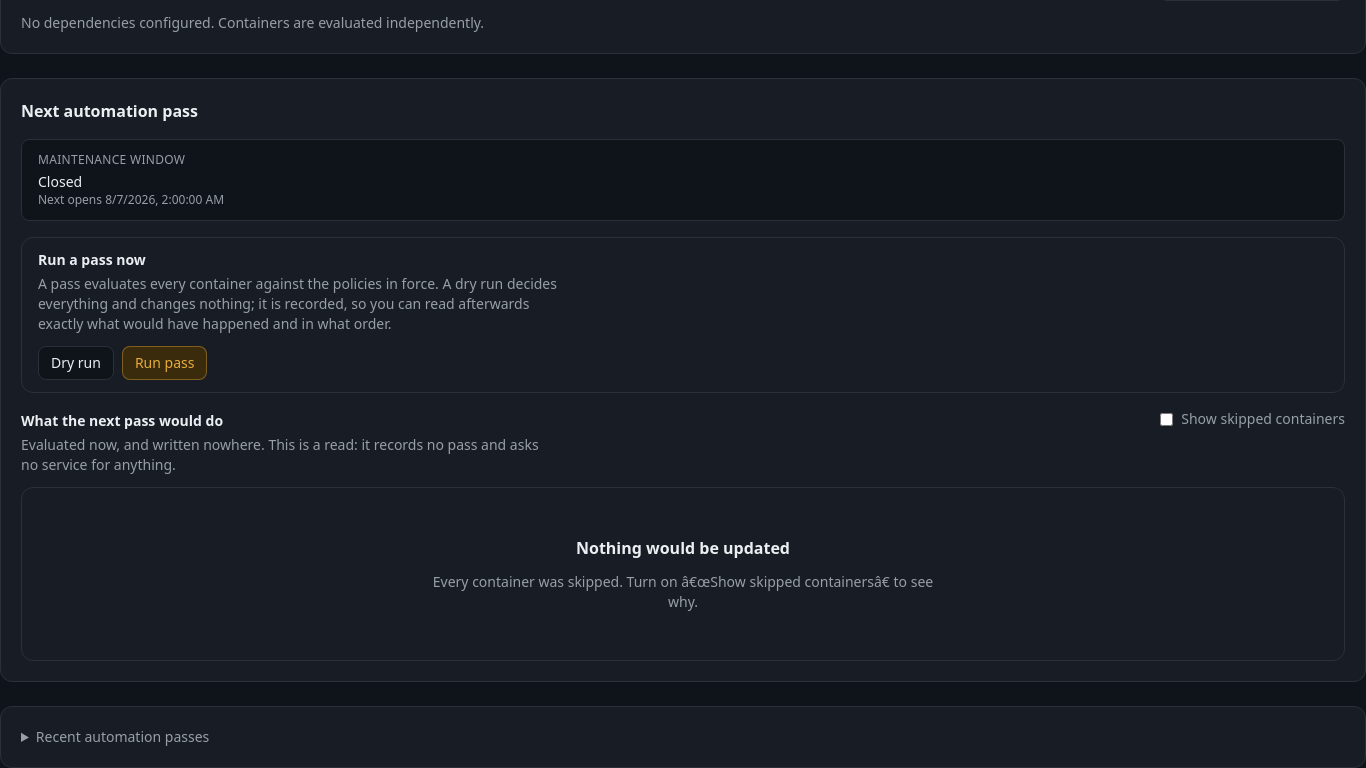
Test: renders why each container would be skipped
The image size is (1366, 768).
(page scrolled)
expect the heading "Nothing would be updated" is shown: met, box [576,536,790,560]
Click the checkbox labelled "Show skipped containers".
click(1167, 419)  # box [1160,412,1173,426]
(page scrolled)
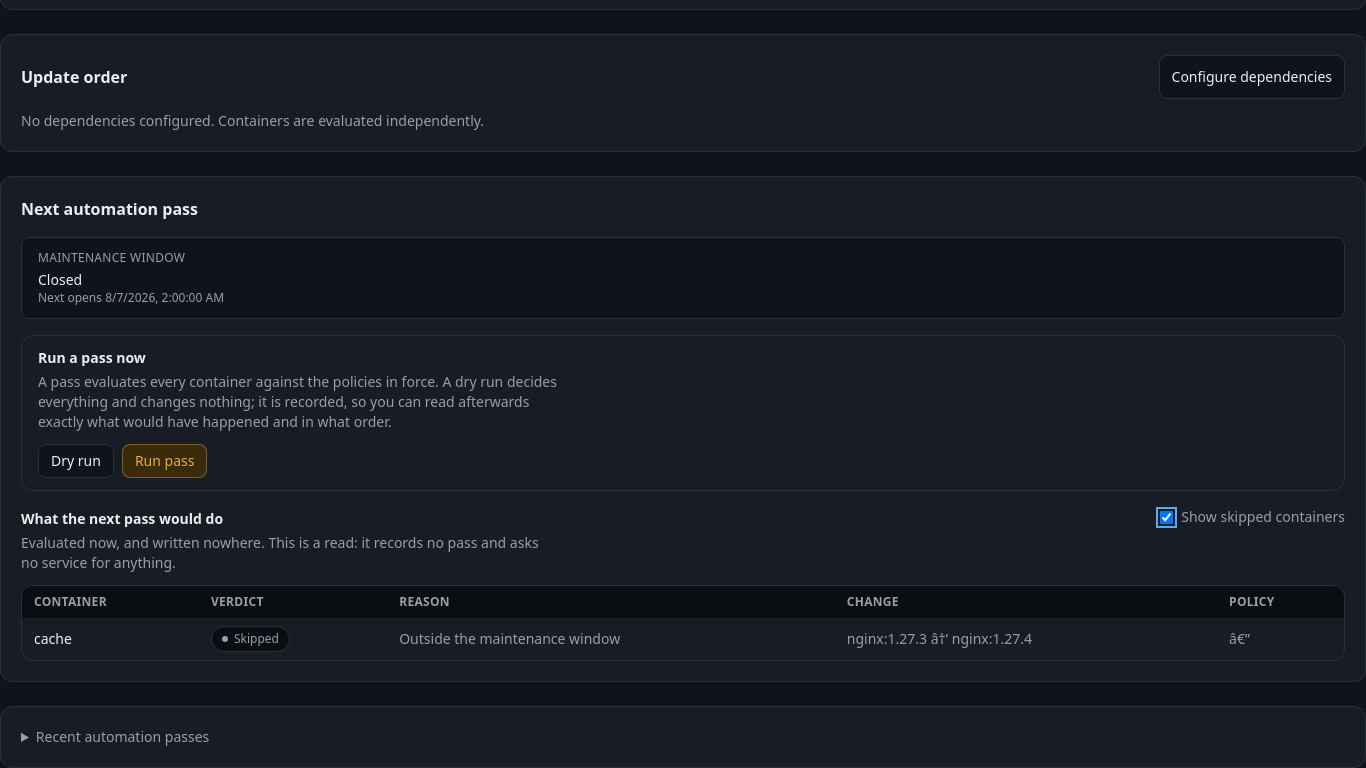
expect the text "cache" is shown: met, box [22,618,199,660]
expect the text "Outside the maintenance window" is shown: met, box [399,628,620,648]
